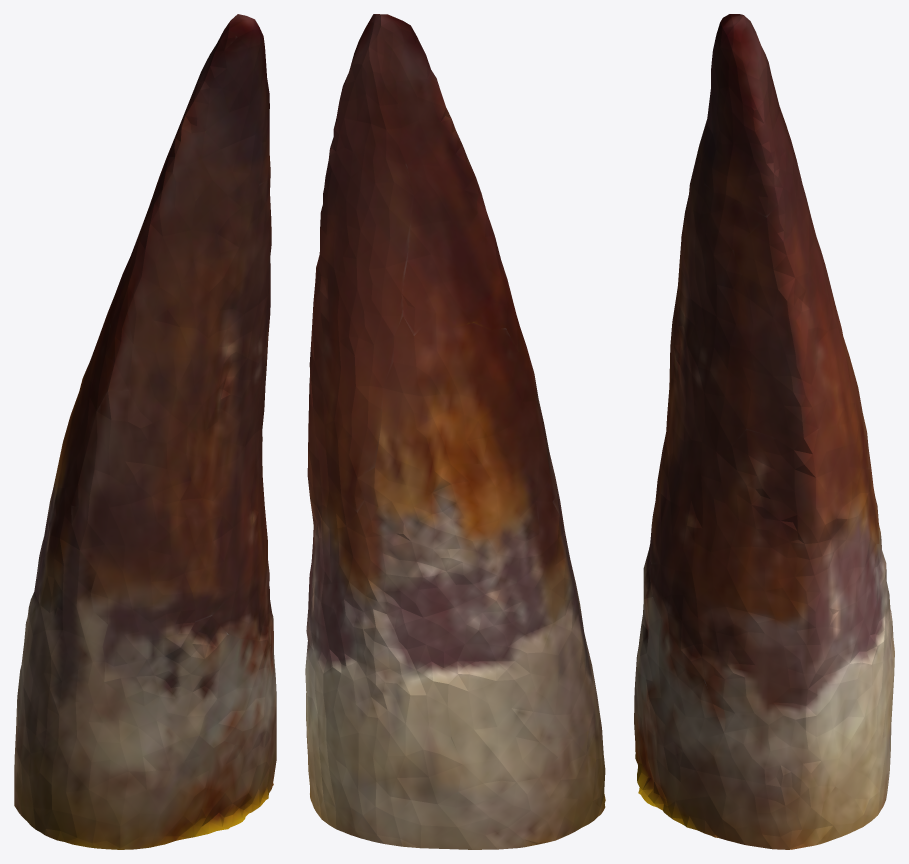
3 views of the same model, side by side, from view 1: azimuth 30°, elevation 25°; view 2: azimuth 150°, elevation 25°; view 3: azimuth 270°, elevation 25° (orthographic). The views are drawn at different scales.
Bounding box in the file's own units: 0.1005 × 0.2899 × 0.0845.
Materials: 1 (1 with a texture image).
